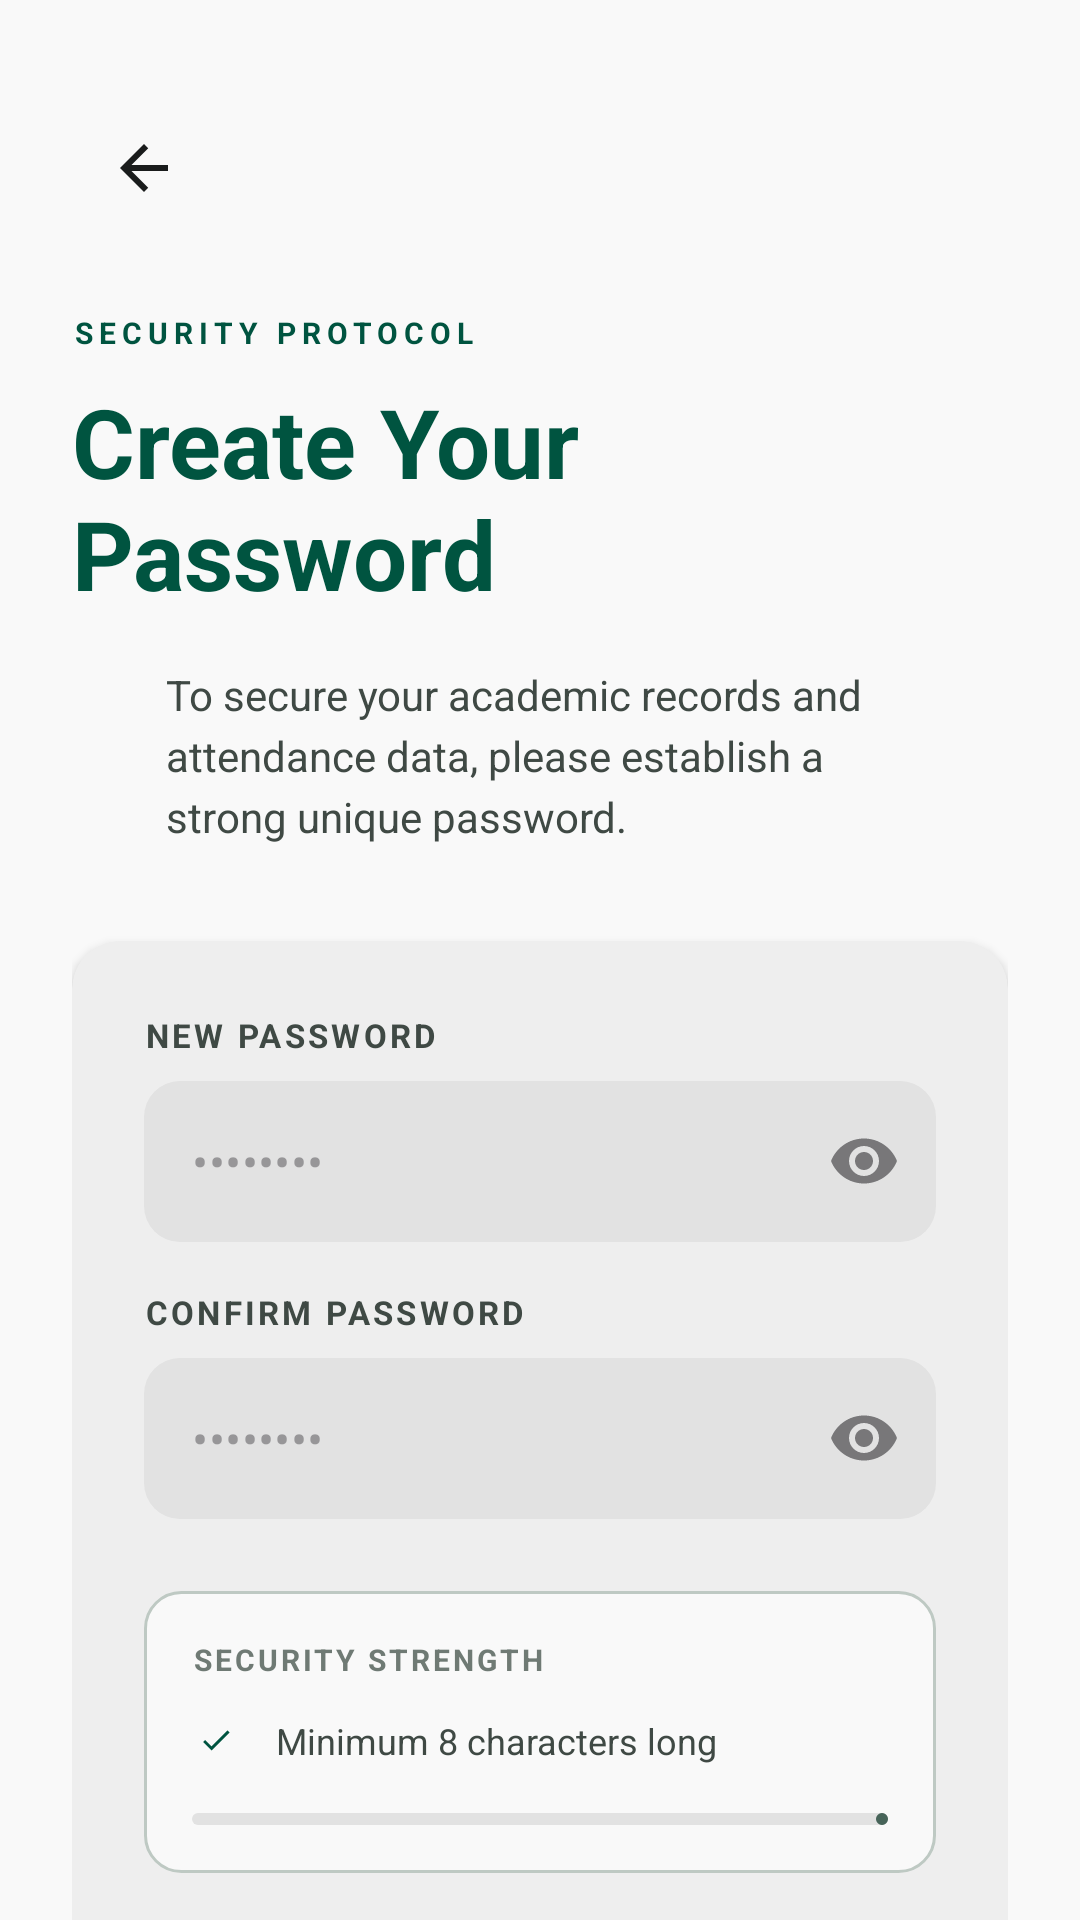

Point at icon controls on the screen. Image size 1080 × 1920, points as (x,y).
Back: (144,168)
check: (216,1740)
